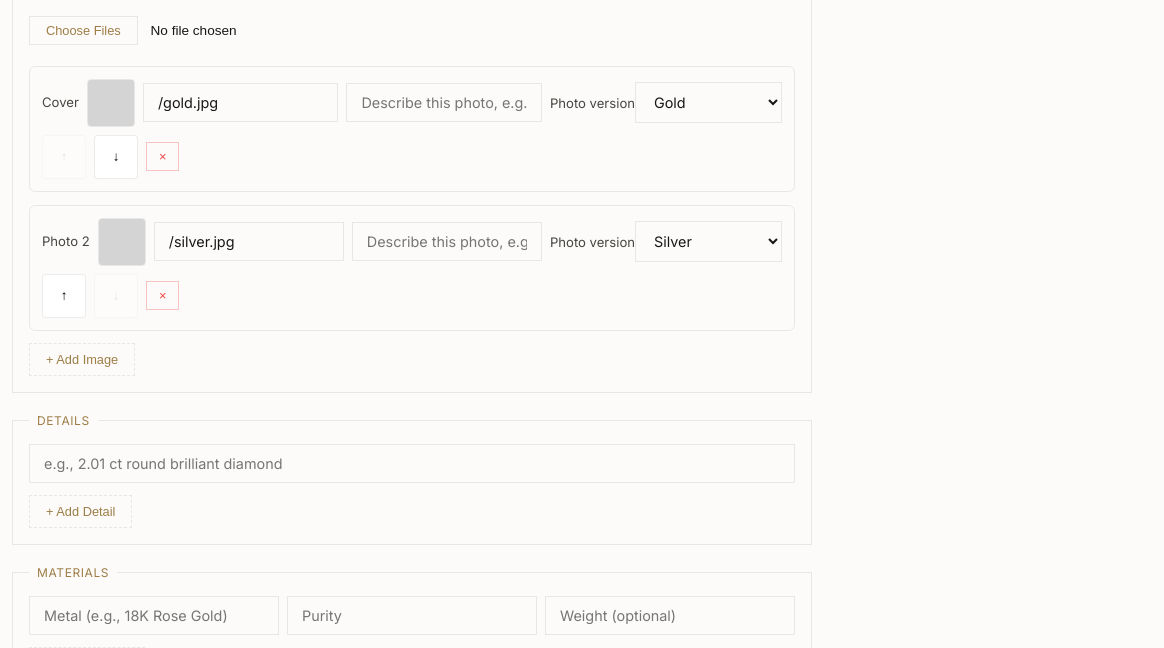
Test: Product photo upload feedback › keeps photo version labels attached when reordering and removing images
(page scrolled)
Click the button named "Move photo 2 earlier". click: (64, 296)
box: [42,274,86,318]
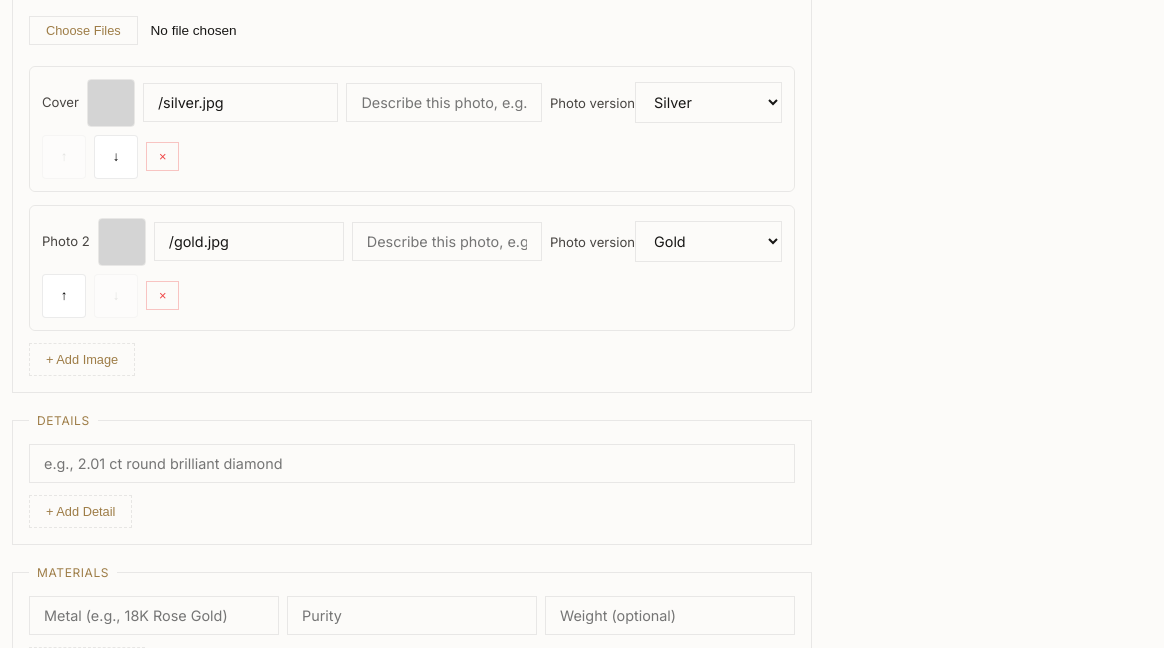
Expected: the field named "Photo 1 URL" holds "/silver.jpg", [143,83,338,122]
Expected: the dropdown named "Photo 1 metal" shows "Silver", [635,82,782,123]
Click the button named "Remove photo 1". click: (163, 157)
box: [146,142,180,171]
(page scrolled)
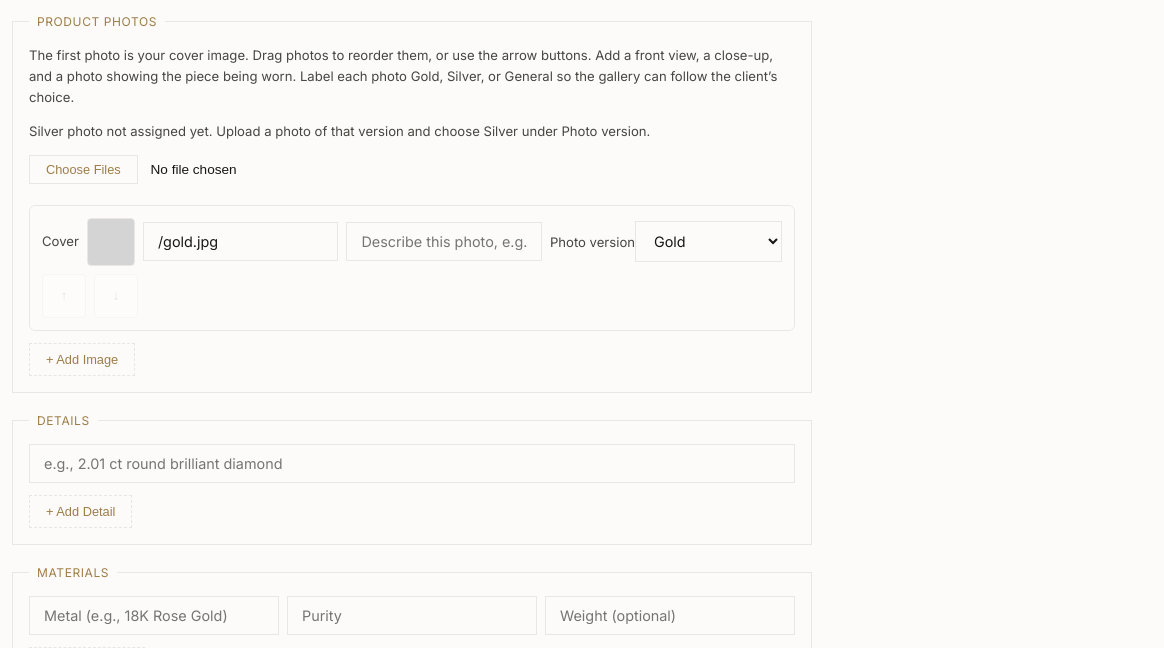
Expected: the dropdown named "Photo 1 metal" shows "Gold", [635,221,782,262]
Expected: the field named "Photo 1 URL" holds "/gold.jpg", [143,222,338,261]
